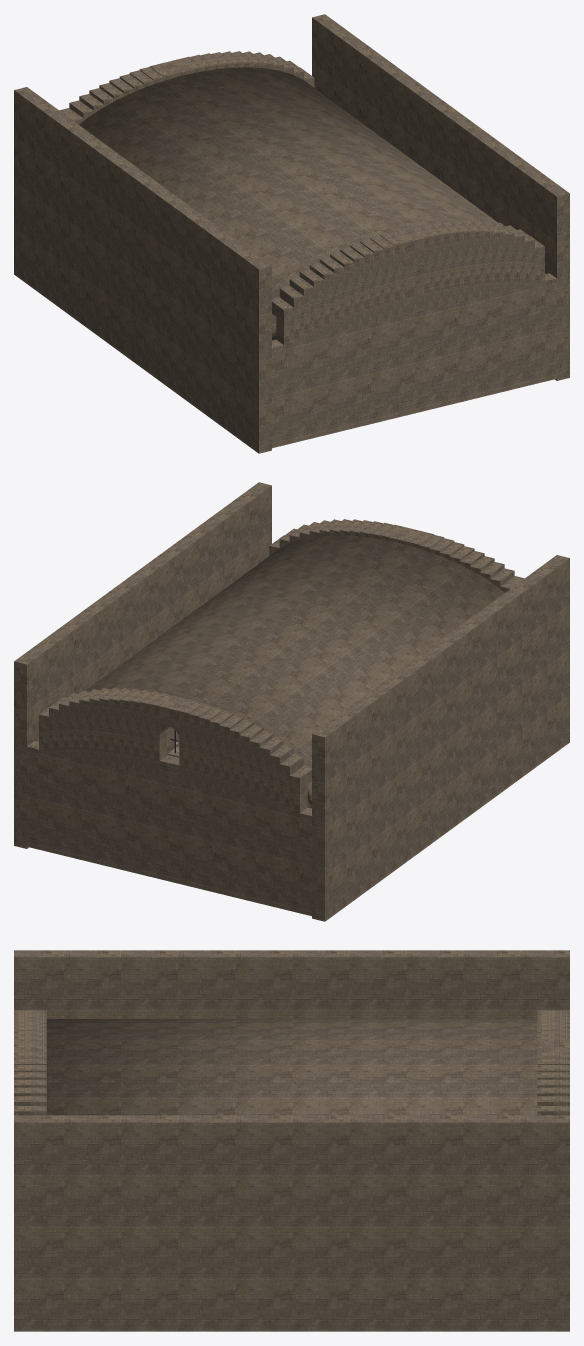
File: crypt_hall.glb
3 renders of one model, top to bottom at view 1: azimuth 30°, elevation 25°; view 2: azimuth 150°, elevation 25°; view 3: azimuth 270°, elevation 25°, orthographic. The views are drawn at different scales.
Parts seen in each view (by area): view 1: crypt_hall; view 2: crypt_hall; view 3: crypt_hall.
Part boxes in pixels (box(x1,y1,x2,y2)): crypt_hall: box(14, 14, 569, 453); crypt_hall: box(14, 482, 569, 921); crypt_hall: box(14, 950, 569, 1331).
Size of the model in its own units: 14.3 by 8.22 by 19.5.
10 materials, 8 textured.
